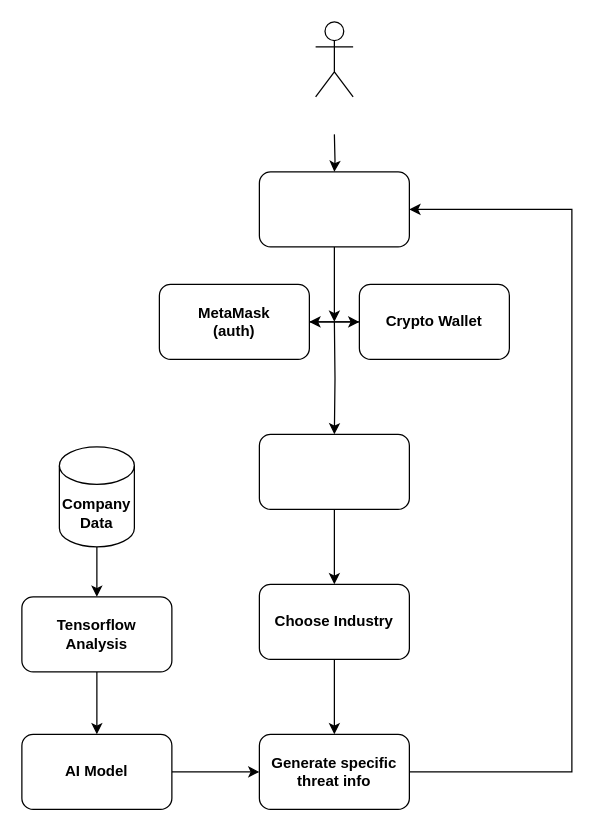
Some shapes in this 604 by 831 pixel diagram are drawn without their labels. The shapes that lost their labels are listed below. From the top down, each one's centre as x and y in pixels, then its label:
At pixel 333 59: "User".
At pixel 333 209: "Front-End".
At pixel 333 471: "Authentication".
